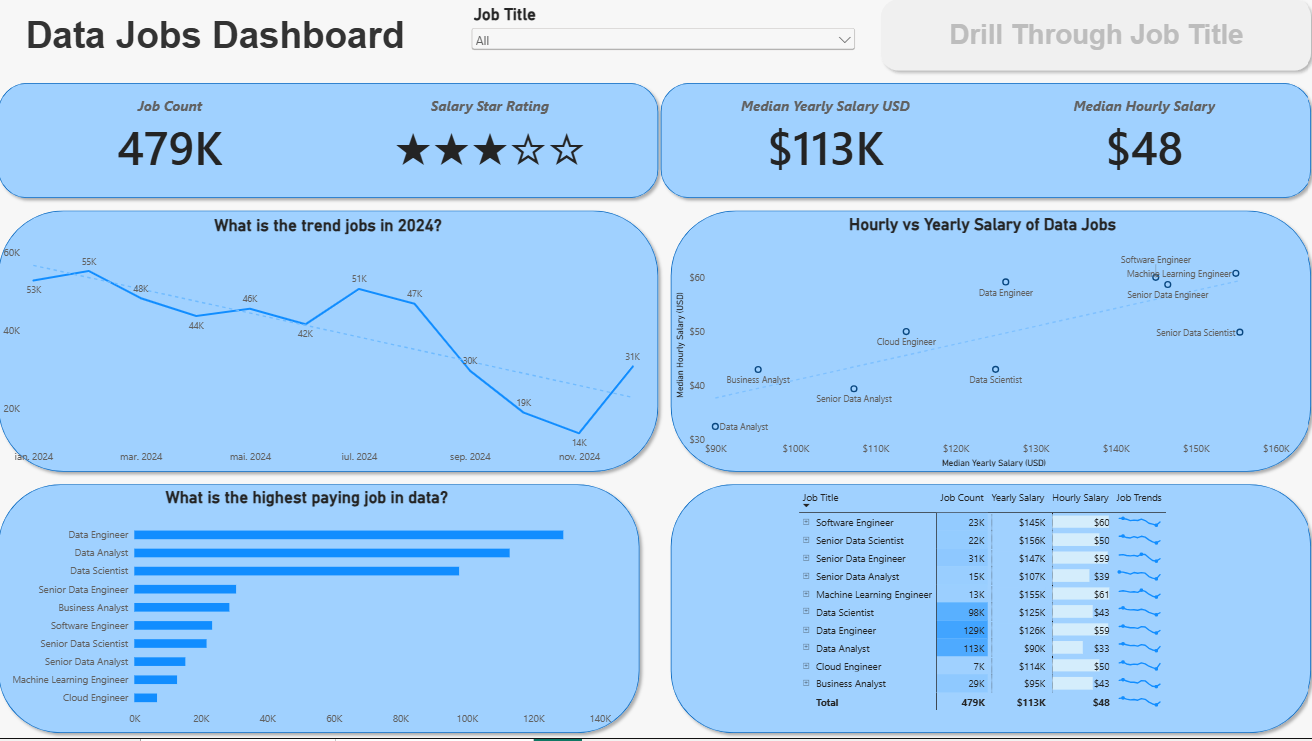

Layout of this report page (visuals, bound fields, positions):
{"tool":"powerbi","page":{"name":"Data Jobs Dashboard","canvas":[1920,1080],"ordinal":0},"visuals":[{"type":"shape","box":[0,121.2,973.6,184.6],"z":0,"group":"g1"},{"type":"group","id":"g1","title":"Background","box":[0,121.2,1920.1,959.1],"z":0},{"type":"textbox","box":[48.9,30.8,562.8,61.5],"z":1000},{"type":"shape","box":[959.1,121.2,960.9,184.6],"z":1000,"group":"g1"},{"type":"slicer","fields":{"Values":["job_postings_flat.job_title_short"]},"box":[689.5,16.3,564.6,119.4],"z":2000},{"type":"shape","box":[0,305.8,973.6,396.3],"z":2000,"group":"g1"},{"type":"cardVisual","fields":{"Data":["Median(job_postings_flat.salary_hour_avg)"]},"box":[1442.3,135.7,452.4,146.6],"z":3000},{"type":"shape","box":[973.6,305.8,946.5,396.3],"z":3000,"group":"g1"},{"type":"cardVisual","fields":{"Data":["Median(job_postings_flat.salary_year_avg)"]},"box":[973.6,135.7,466.9,146.6],"z":4000},{"type":"shape","box":[0,702.1,946.5,378.2],"z":4000,"group":"g1"},{"type":"cardVisual","fields":{"Data":["CountNonNull(job_postings_flat.job_title_short)"]},"box":[29,135.7,457.8,146.6],"z":5000},{"type":"shape","box":[973.6,702.1,946.5,378.2],"z":5000,"group":"g1"},{"type":"cardVisual","fields":{"Data":["job_postings_flat.Salary Star Rating"]},"box":[495.8,135.7,450.6,146.6],"z":6000},{"type":"lineChart","title":"What is the trend jobs in 2024?","fields":{"Category":["job_postings_flat.job_posted_date.Variation.Date Hierarchy.Year","job_postings_flat.job_posted_date.Variation.Date Hierarchy.Quarter","job_postings_flat.job_posted_date.Variation.Date Hierarchy.Month","job_postings_flat.job_posted_date.Variation.Date Hierarchy.Day"],"Y":["CountNonNull(job_postings_flat.job_title_short)"]},"box":[0,307.6,973.6,394.5],"z":7000},{"type":"barChart","title":"What is the highest paying job in data?","fields":{"Category":["job_postings_flat.job_title_short"],"Y":["CountNonNull(job_postings_flat.job_title_short)"]},"box":[0,702.1,912.1,378.2],"z":8000},{"type":"scatterChart","title":"Hourly vs Yearly Salary of Data Jobs","fields":{"Series":["job_postings_flat.job_title_short"],"X":["Median(job_postings_flat.salary_year_avg)"],"Y":["Median(job_postings_flat.salary_hour_avg)"]},"box":[973.6,305.8,921.1,396.3],"z":9000},{"type":"pivotTable","fields":{"Rows":["job_postings_flat.job_title_short","job_postings_flat.job_posted_date.Variation.Date Hierarchy.Quarter"],"Values":["CountNonNull(job_postings_flat.job_title_short)","Median(job_postings_flat.salary_year_avg)","Median(job_postings_flat.salary_hour_avg)","SparklineData(CountNonNull(job_postings_flat.job_title_short)_[job_postings_flat.job_posted_date.Variation.Date Hierarch"]},"box":[1152.8,702.1,575.5,365.6],"z":10000},{"type":"actionButton","box":[1277.6,0,642.4,121.2],"z":11000}]}

Visuals, with their boxes in screenshot pixels (x1, y1, x2, y2), scaled from the page's 1920x1080 canvas onto the 1312x741 screenshot:
shape: region(0, 83, 665, 210)
"Background" group: region(0, 83, 1311, 740)
textbox: region(33, 21, 418, 63)
shape: region(655, 83, 1311, 210)
slicer - job_postings_flat.job_title_short: region(471, 11, 857, 93)
shape: region(0, 210, 665, 482)
cardVisual - Median(job_postings_flat.salary_hour_avg): region(986, 93, 1295, 194)
shape: region(665, 210, 1311, 482)
cardVisual - Median(job_postings_flat.salary_year_avg): region(665, 93, 984, 194)
shape: region(0, 482, 647, 740)
cardVisual - CountNonNull(job_postings_flat.job_title_short): region(20, 93, 333, 194)
shape: region(665, 482, 1311, 740)
cardVisual - job_postings_flat.Salary Star Rating: region(339, 93, 647, 194)
"What is the trend jobs in 2024?" lineChart: region(0, 211, 665, 482)
"What is the highest paying job in data?" barChart: region(0, 482, 623, 740)
"Hourly vs Yearly Salary of Data Jobs" scatterChart: region(665, 210, 1295, 482)
pivotTable - job_postings_flat.job_title_short x job_postings_flat.job_posted_date.Variation.Date Hierarchy.Quarter: region(788, 482, 1181, 733)
actionButton: region(873, 0, 1311, 83)
